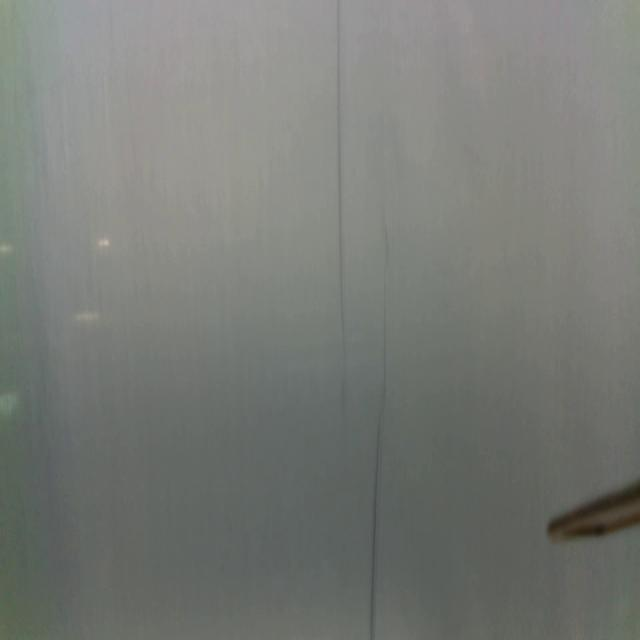crease: (368, 213, 391, 640), (335, 0, 348, 407)
